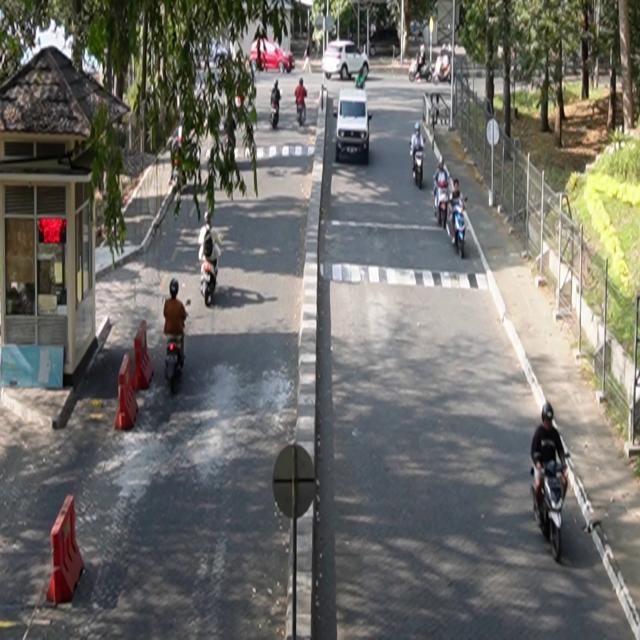car: (250, 38, 296, 74)
